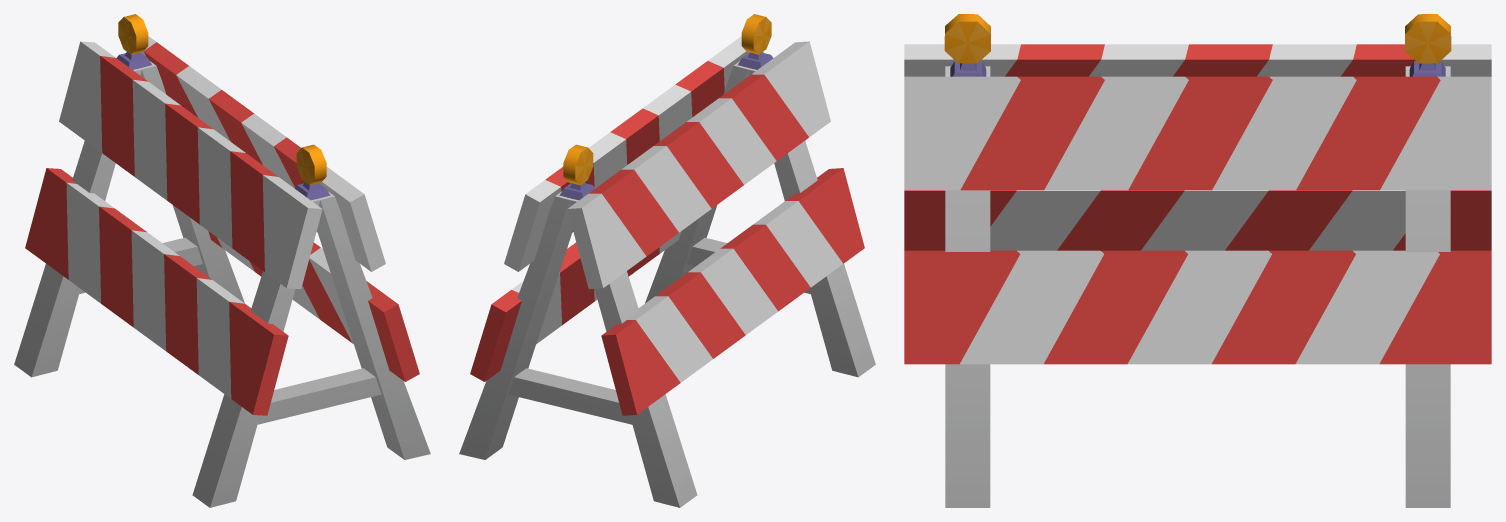
The model's file is RoadBarier_1_B.fbx.
3 renders of one model, left to right at view 1: azimuth 30°, elevation 25°; view 2: azimuth 150°, elevation 25°; view 3: azimuth 270°, elevation 25°, orthographic. The views are drawn at different scales.
Visible parts, largest first — view 1: RoadBarier_1_B; view 2: RoadBarier_1_B; view 3: RoadBarier_1_B.
Part boxes in pixels (box(x1,y1,x2,y2)): RoadBarier_1_B: box(14, 14, 430, 507); RoadBarier_1_B: box(459, 14, 875, 507); RoadBarier_1_B: box(904, 14, 1491, 507).
Bounding box in the file's own units: 78.62 × 111 × 140.
